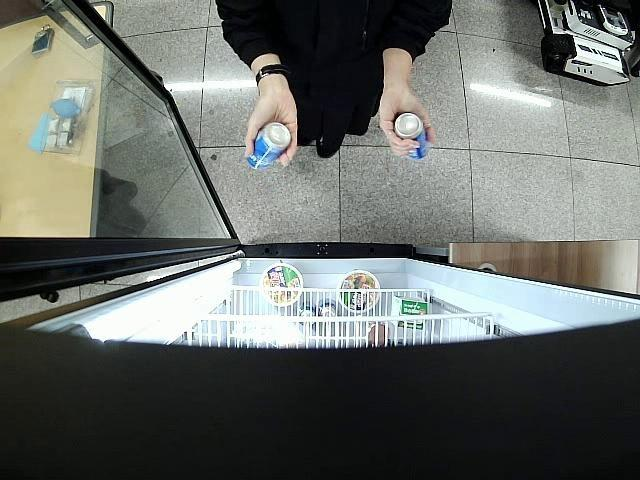15_letsbe: (246, 121, 292, 169), (394, 112, 428, 161)
